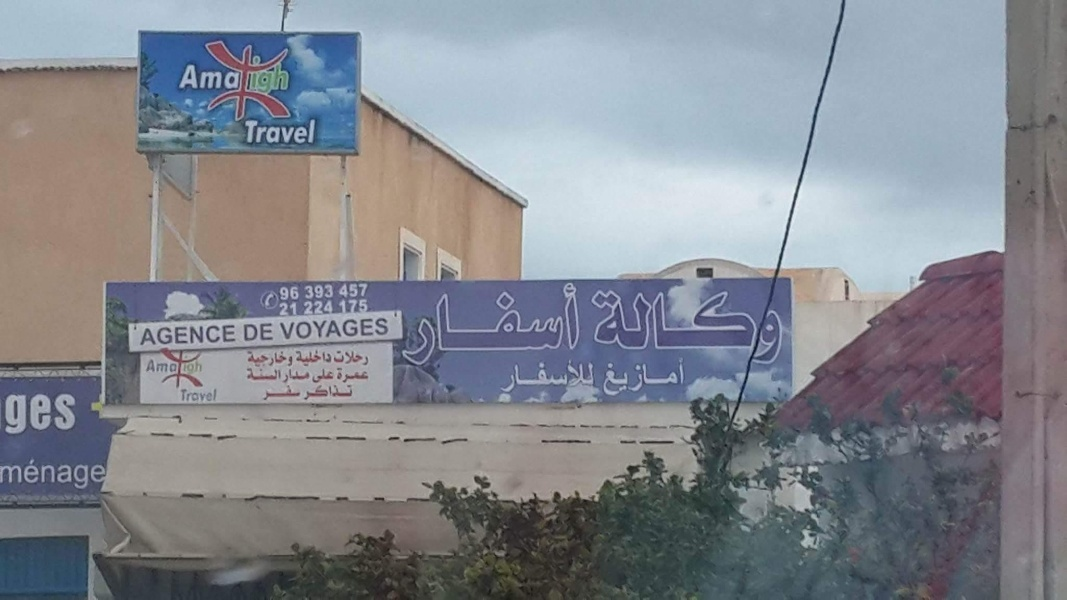text: (417, 282, 432, 369), (433, 282, 448, 369), (449, 282, 464, 369), (465, 282, 480, 369), (481, 282, 496, 369), (497, 282, 512, 369), (513, 282, 528, 369), (529, 282, 544, 369), (545, 282, 560, 369), (561, 282, 576, 369), (402, 282, 416, 369), (593, 290, 608, 367), (609, 290, 624, 367), (625, 290, 640, 367), (641, 290, 656, 367), (657, 290, 672, 367), (673, 290, 688, 367), (689, 290, 704, 367), (705, 290, 720, 367), (721, 290, 736, 367), (737, 290, 752, 367), (753, 290, 768, 367), (769, 290, 784, 367), (17, 391, 32, 435), (33, 391, 48, 435), (49, 391, 64, 435), (609, 357, 624, 399), (625, 357, 640, 399), (641, 357, 656, 399), (657, 357, 672, 399), (257, 55, 272, 96), (273, 55, 288, 96), (673, 357, 687, 399), (3, 391, 16, 435), (65, 391, 77, 435), (17, 456, 32, 491), (33, 456, 48, 491), (49, 456, 64, 491), (65, 456, 80, 491), (81, 456, 96, 491), (513, 359, 528, 393), (529, 359, 544, 393), (545, 359, 560, 393), (561, 359, 576, 393), (577, 359, 592, 393), (2, 456, 16, 491), (193, 63, 208, 92), (209, 63, 224, 92), (225, 63, 240, 92), (97, 456, 109, 491), (257, 118, 272, 146), (273, 118, 288, 146), (289, 118, 304, 146), (243, 118, 256, 146), (305, 118, 318, 146), (145, 323, 160, 347), (161, 323, 176, 347), (177, 323, 192, 347), (193, 323, 208, 347), (209, 323, 224, 347), (577, 282, 581, 369), (289, 318, 304, 341), (305, 318, 320, 341), (321, 318, 336, 341), (337, 318, 352, 341), (353, 318, 368, 341), (369, 318, 384, 341), (225, 323, 238, 347), (503, 359, 512, 393), (257, 322, 272, 342), (353, 298, 369, 316), (305, 348, 320, 367), (257, 349, 272, 368), (273, 349, 288, 368), (353, 367, 369, 384), (273, 384, 288, 402), (243, 322, 256, 342), (305, 300, 320, 317), (321, 300, 336, 317), (193, 387, 208, 404), (337, 349, 352, 366), (353, 349, 368, 366), (337, 367, 352, 384), (305, 384, 320, 401), (321, 384, 336, 401), (337, 384, 352, 401), (193, 355, 205, 376), (289, 384, 303, 402), (305, 284, 320, 300), (321, 284, 336, 300), (353, 283, 368, 299), (289, 368, 304, 384), (257, 367, 272, 383), (339, 298, 352, 316), (321, 367, 334, 385), (184, 63, 192, 92), (161, 358, 176, 373), (321, 348, 332, 367), (339, 283, 352, 299), (279, 318, 288, 341), (180, 387, 192, 404), (147, 358, 160, 373), (246, 349, 256, 368), (289, 286, 301, 301), (295, 348, 304, 367), (184, 355, 192, 376), (604, 357, 608, 399), (252, 55, 256, 96), (263, 384, 272, 402), (289, 302, 299, 318), (246, 367, 256, 383), (590, 290, 592, 367), (209, 387, 218, 404), (279, 286, 288, 301), (280, 302, 288, 318), (273, 367, 281, 383), (313, 367, 320, 385), (289, 55, 292, 96), (385, 318, 390, 341), (289, 349, 294, 368), (305, 368, 310, 384), (785, 290, 786, 367), (141, 323, 144, 347), (593, 359, 595, 393), (284, 368, 288, 384), (273, 322, 275, 342), (334, 349, 336, 366), (369, 349, 371, 366), (241, 63, 242, 92), (353, 384, 354, 401), (369, 283, 370, 299), (177, 358, 178, 373)
